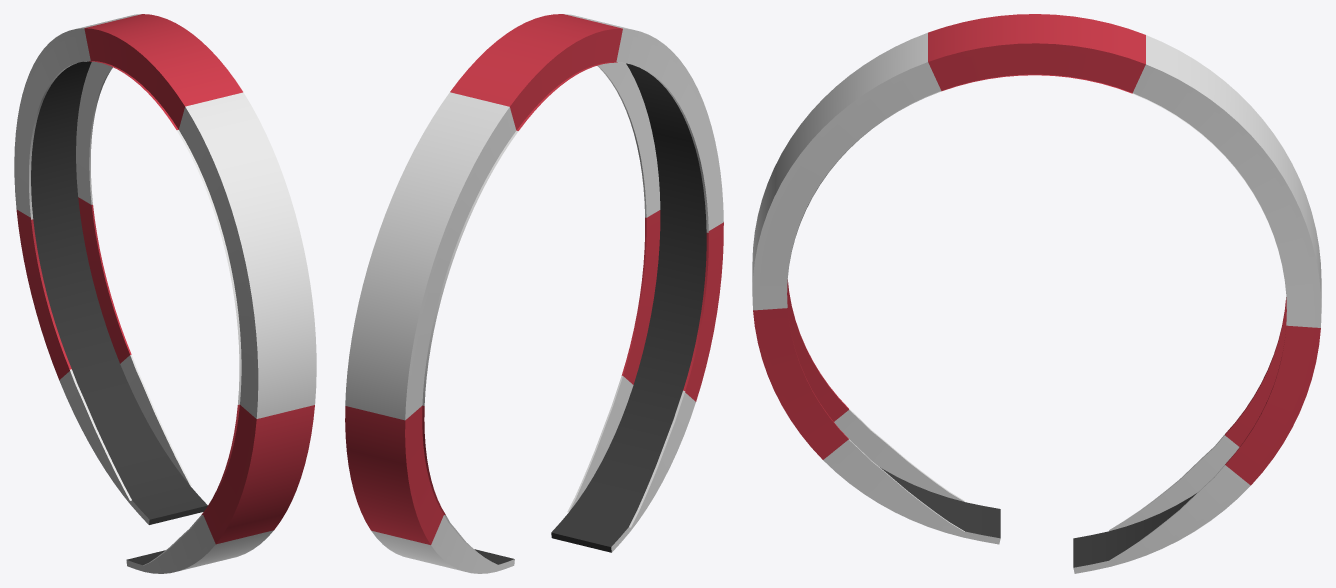
The model's file is Loop2.fbx.
The picture shows the model from 3 angles, left to right: view 1: azimuth 30°, elevation 25°; view 2: azimuth 150°, elevation 25°; view 3: azimuth 270°, elevation 25°; orthographic projection. The views are drawn at different scales.
Visible parts, largest first — view 1: Loop.001; view 2: Loop.001; view 3: Loop.001.
Boxes of the visible parts, bbox=[...] form: Loop.001: bbox=[14, 14, 316, 573]; Loop.001: bbox=[345, 14, 723, 573]; Loop.001: bbox=[752, 14, 1321, 573].
Size of the model in its own units: 3.77 by 14.97 by 15.02.
